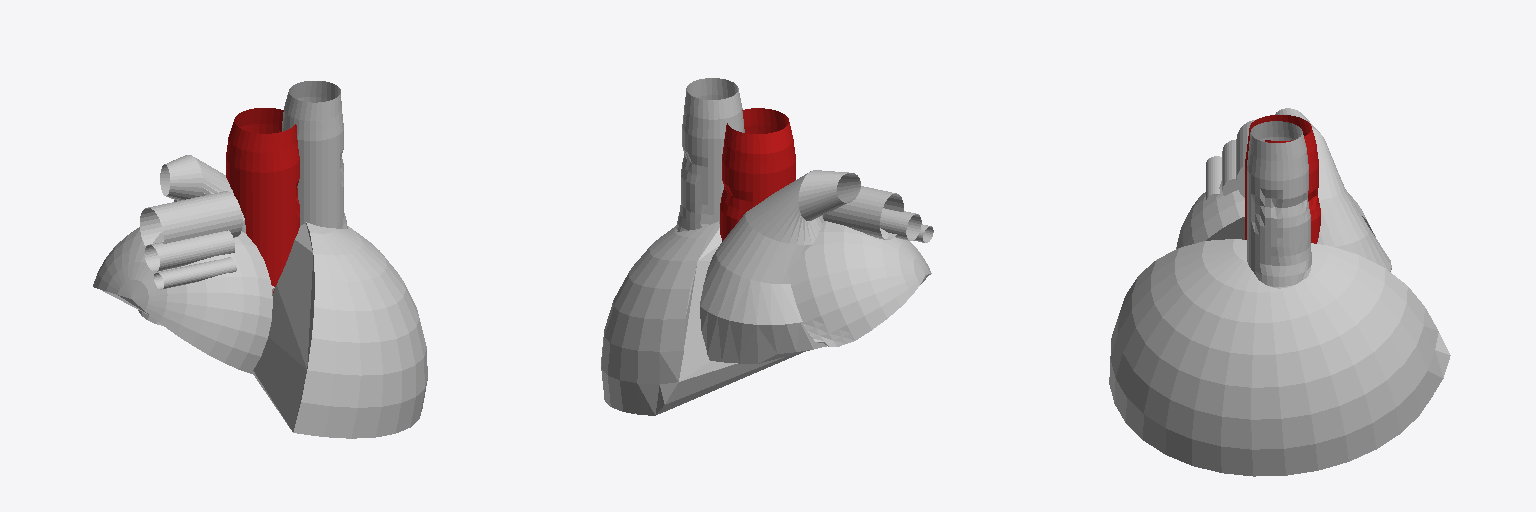
3 views of the same model, side by side, from view 1: azimuth 30°, elevation 25°; view 2: azimuth 150°, elevation 25°; view 3: azimuth 270°, elevation 25° (orthographic).
Visible parts, largest first — view 1: 円柱.002; view 2: 円柱.002; view 3: 円柱.002.
Boxes of the visible parts, <box> form: 円柱.002: <box>93,81,427,438</box>; 円柱.002: <box>601,78,933,415</box>; 円柱.002: <box>1109,108,1450,476</box>.
Bounding box in the file's own units: 1.29 × 1.27 × 1.3.
2 materials, 1 textured.